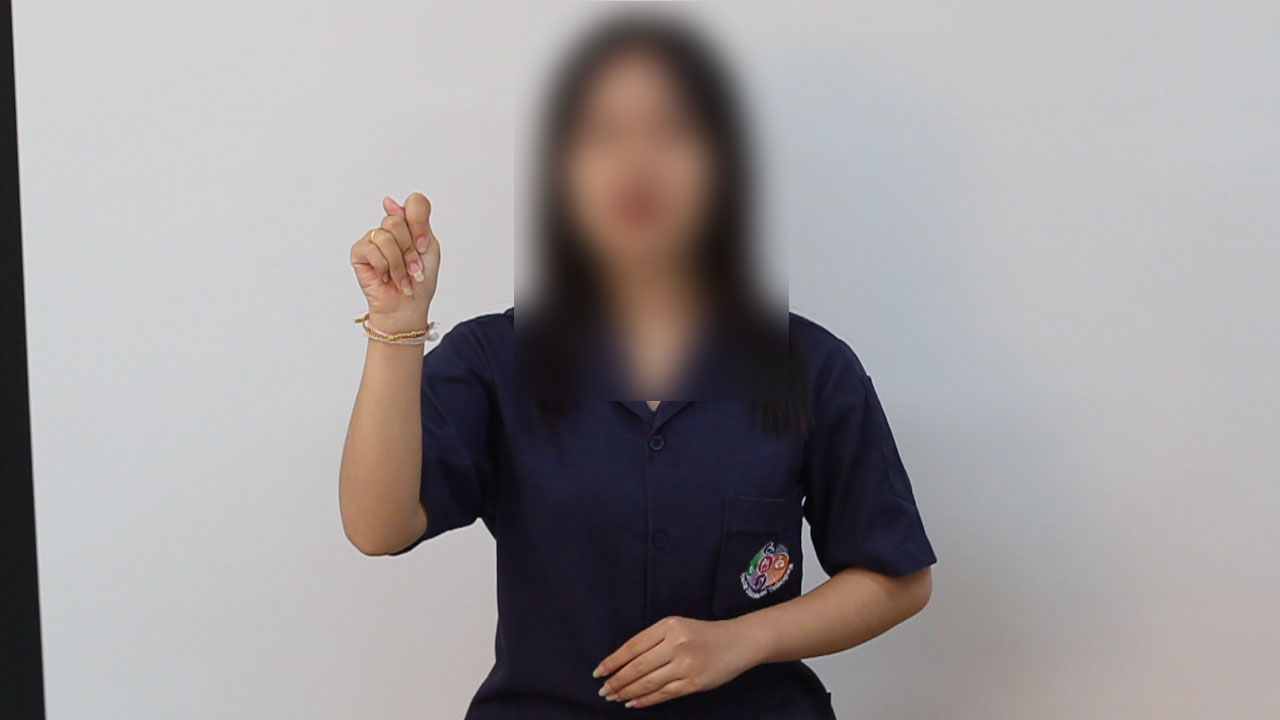tor: (331, 178, 470, 326)
